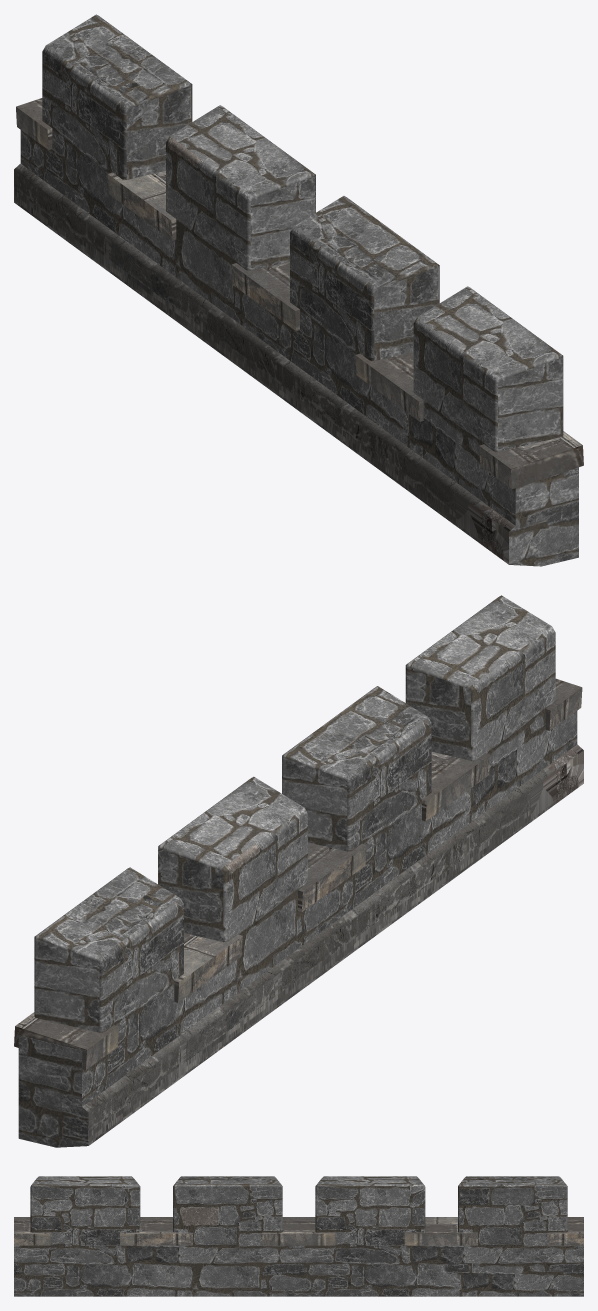
File: MC_Battlements_Wall_C_8m.fbx
3 views of the same model, one above another, from view 1: azimuth 30°, elevation 25°; view 2: azimuth 150°, elevation 25°; view 3: azimuth 270°, elevation 25° (orthographic). The views are drawn at different scales.
Visible parts, largest first — view 1: MC_Battlements_Wall_C_8m_LOD0; view 2: MC_Battlements_Wall_C_8m_LOD0; view 3: MC_Battlements_Wall_C_8m_LOD0.
Boxes of the visible parts, x1,y1,x2,y2 form: MC_Battlements_Wall_C_8m_LOD0: (14, 14, 583, 566); MC_Battlements_Wall_C_8m_LOD0: (14, 595, 583, 1147); MC_Battlements_Wall_C_8m_LOD0: (14, 1176, 583, 1296).
Size of what is drawn, in the model's own units: 69.78 by 172 by 800.
